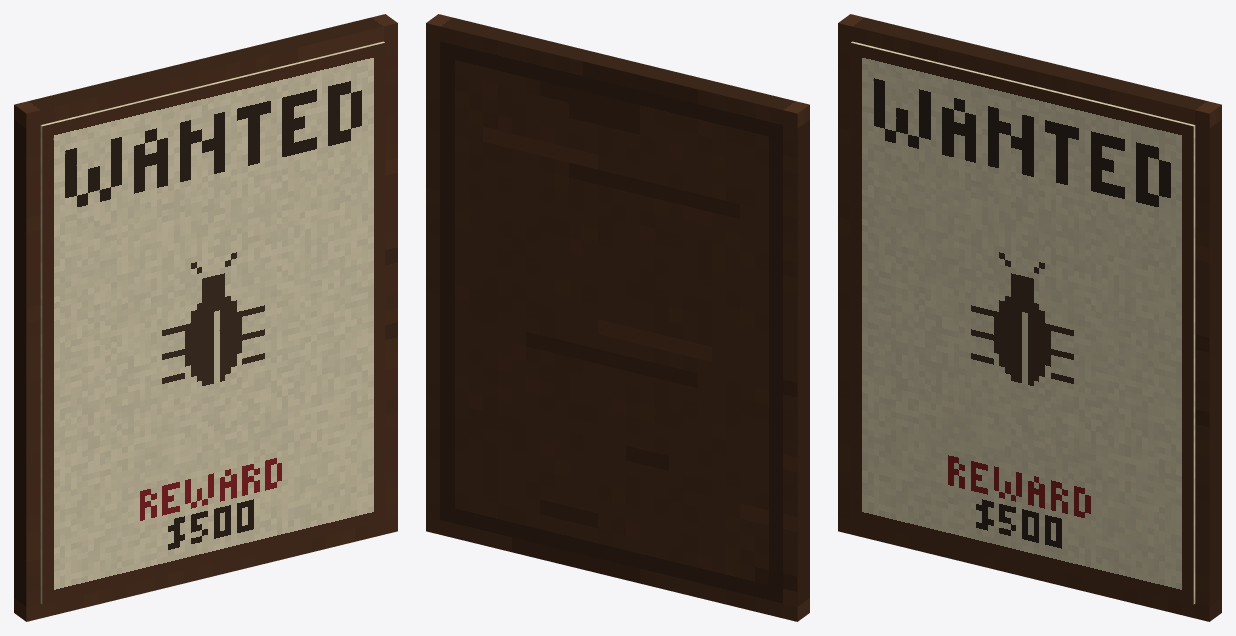
Rendered from wanted_poster.glb.
3 views of the same model, side by side, from view 1: azimuth 30°, elevation 25°; view 2: azimuth 150°, elevation 25°; view 3: azimuth 330°, elevation 25° (orthographic).
Parts seen in each view (by area): view 1: wanted_poster; view 2: wanted_poster; view 3: wanted_poster.
Boxes of the visible parts, left/top/right/bottom form: wanted_poster: left=14, top=14, right=397, bottom=621; wanted_poster: left=426, top=14, right=809, bottom=621; wanted_poster: left=838, top=14, right=1221, bottom=621.
Size of the model in its own units: 0.8125 by 1.06 by 0.0531.
Materials: 1 (1 with a texture image).
